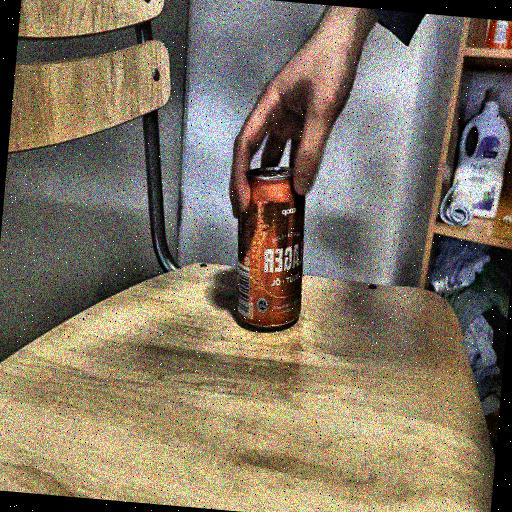coop_larger: (220, 162, 321, 333)
